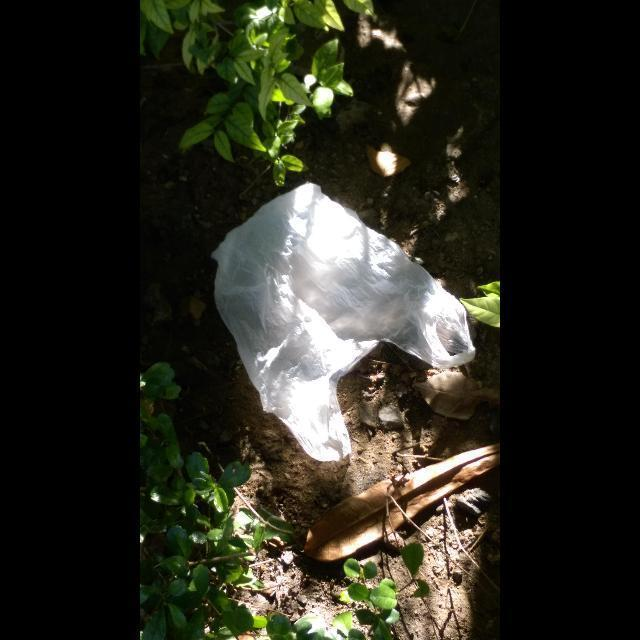Plastic: (212, 182, 476, 462)
